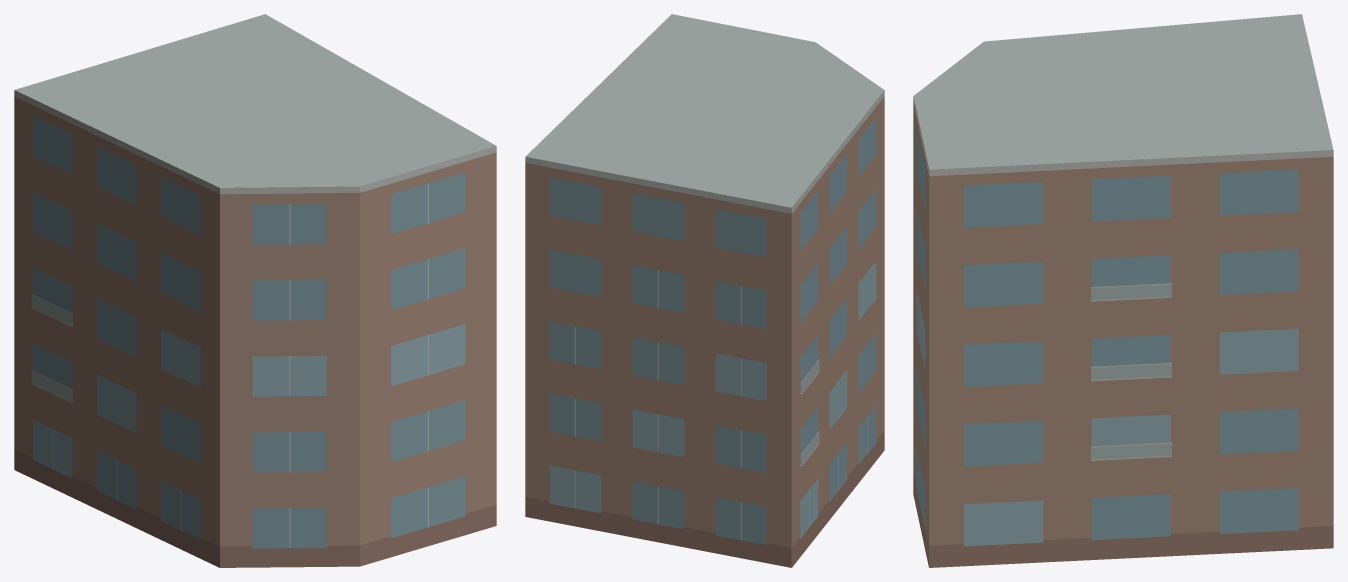
File: survey-upis-32852800.glb
3 renders of one model, left to right at view 1: azimuth 30°, elevation 25°; view 2: azimuth 150°, elevation 25°; view 3: azimuth 270°, elevation 25°, orthographic. The views are drawn at different scales.
Visible parts, largest first — view 1: survey-upis-32852800.tmp; view 2: survey-upis-32852800.tmp; view 3: survey-upis-32852800.tmp.
Boxes of the visible parts, x1,y1,x2,y2 form: survey-upis-32852800.tmp: [14, 14, 496, 567]; survey-upis-32852800.tmp: [525, 14, 884, 567]; survey-upis-32852800.tmp: [913, 14, 1333, 567].
Size of the model in its own units: 12.17 by 14.5 by 13.88.
